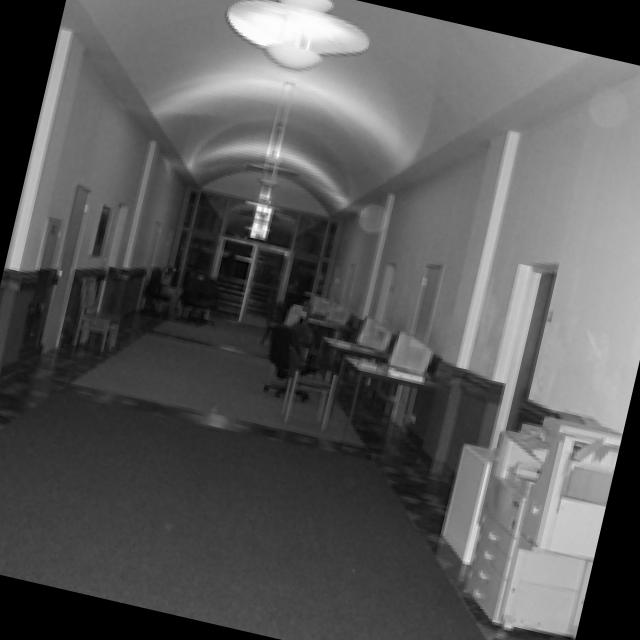2001: (528, 58, 640, 436), (191, 59, 349, 253), (24, 13, 94, 201)
ceiling beam: (69, 0, 548, 85)
chair: (461, 354, 585, 441), (379, 313, 490, 394), (327, 284, 407, 347), (266, 248, 343, 306)
chair crop: (0, 372, 222, 610), (314, 484, 606, 640)
chair seat: (0, 288, 92, 391), (531, 415, 626, 509), (10, 259, 61, 286)
clock crop: (141, 43, 168, 77)
conference table: (42, 223, 576, 477)
door bars: (329, 90, 420, 288)
painting crop: (463, 88, 527, 185)
pitcher: (256, 278, 308, 348), (167, 227, 211, 290)
plant -x: (434, 138, 619, 345)
podium: (82, 160, 176, 243)
table setting for dinner: (135, 265, 345, 369)
